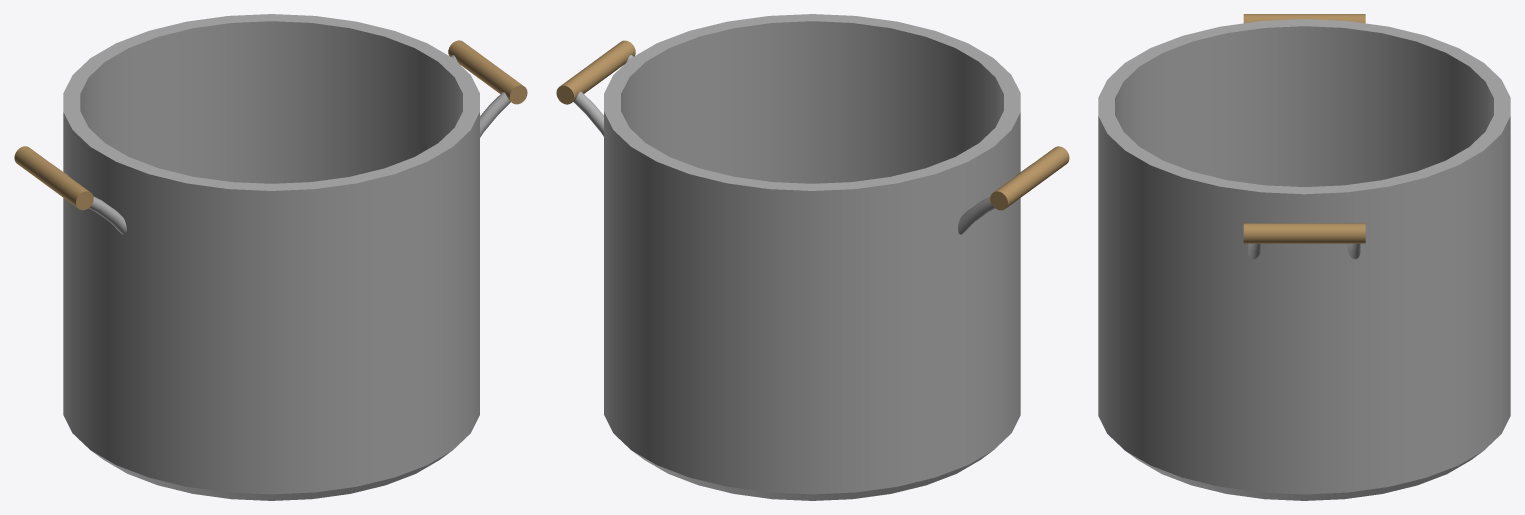
Rendered from CookingPot_02.FBX.
3 views of the same model, side by side, from view 1: azimuth 30°, elevation 25°; view 2: azimuth 150°, elevation 25°; view 3: azimuth 270°, elevation 25° (orthographic).
Visible parts, largest first — view 1: BigPot; view 2: BigPot; view 3: BigPot.
Boxes of the visible parts, left/top/right/bottom form: BigPot: left=14, top=14, right=527, bottom=500; BigPot: left=556, top=14, right=1069, bottom=500; BigPot: left=1098, top=14, right=1510, bottom=500.
Bounding box in the file's own units: 49.62 × 33.23 × 39.65.
